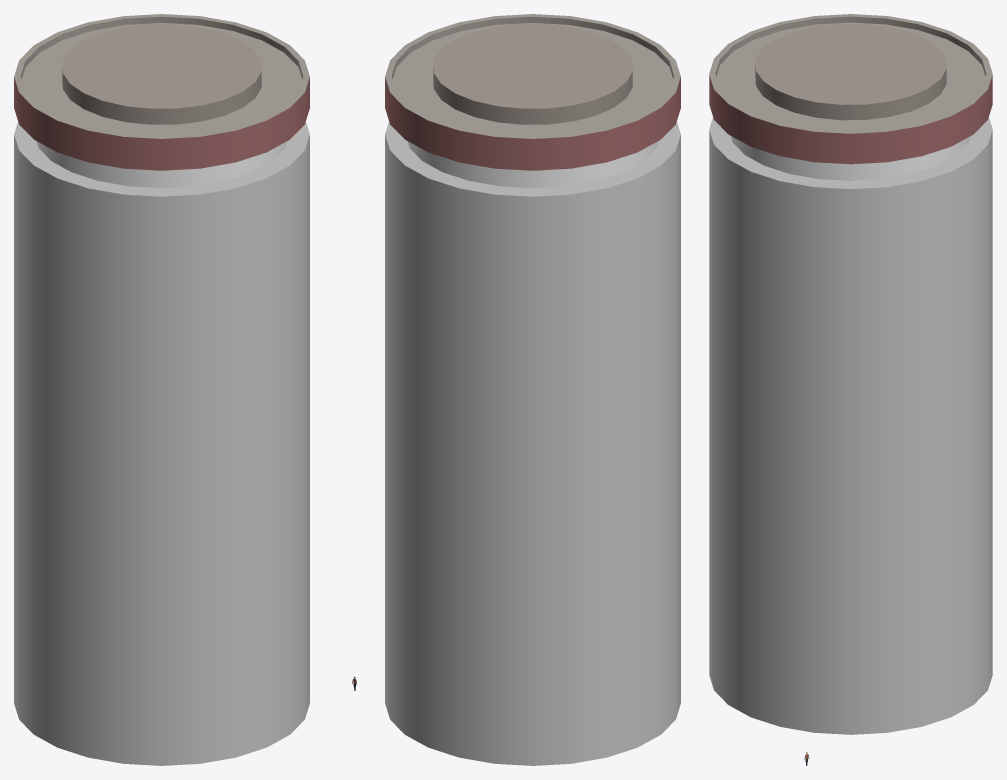
Rendered from building1.fbx.
3 renders of one model, left to right at view 1: azimuth 30°, elevation 25°; view 2: azimuth 150°, elevation 25°; view 3: azimuth 270°, elevation 25°, orthographic. The views are drawn at different scales.
Parts seen in each view (by area): view 1: Layer0_001; view 2: Layer0_001; view 3: Layer0_001.
Part boxes in pixels (<box>): Layer0_001: <box>14,14,309,765</box>; Layer0_001: <box>385,14,680,765</box>; Layer0_001: <box>709,14,992,734</box>.
Bounding box in the file's own units: 1566 × 3249 × 1343.
